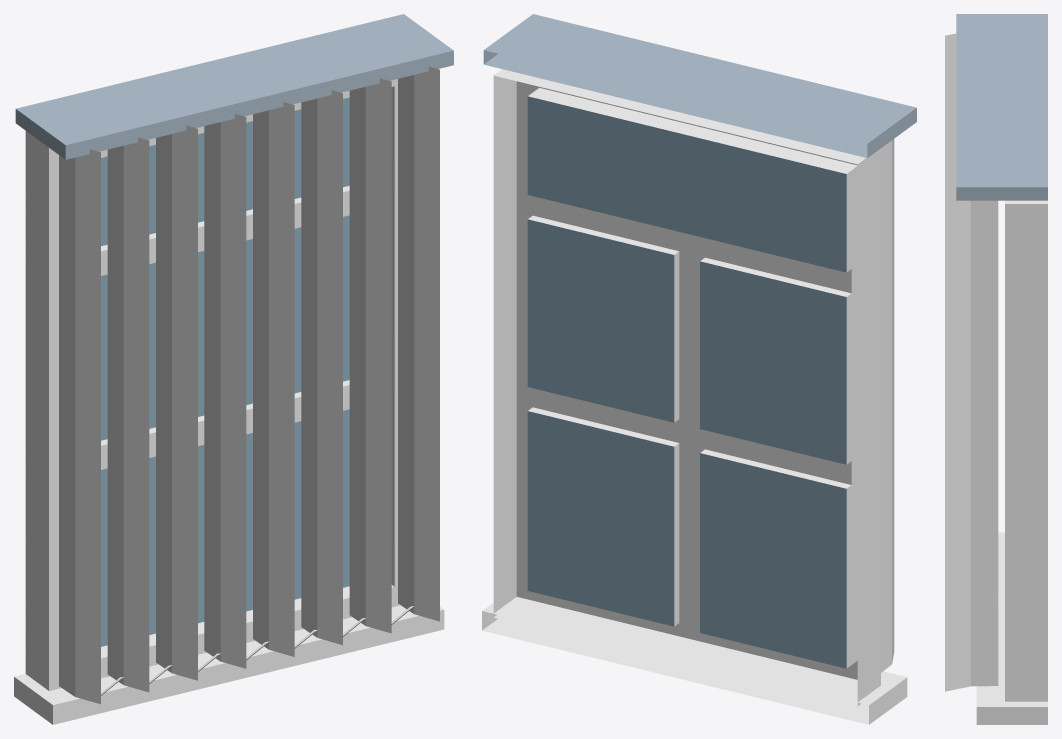
Rendered from window-with-blinds_open 1.fbx.
3 renders of one model, left to right at view 1: azimuth 30°, elevation 25°; view 2: azimuth 150°, elevation 25°; view 3: azimuth 270°, elevation 25°, orthographic. The views are drawn at different scales.
Visible parts, largest first — view 1: window blind open, window; view 2: window, window blind open; view 3: window blind open, window.
Boxes of the visible parts, x1=… form: window blind open: x1=15, y1=14, x2=453, y2=704; window: x1=14, y1=79, x2=444, y2=724; window: x1=482, y1=69, x2=907, y2=724; window blind open: x1=483, y1=14, x2=916, y2=672; window blind open: x1=945, y1=14, x2=1047, y2=691; window: x1=976, y1=200, x2=1047, y2=724.
Size of the model in its own units: 1.49 by 2.14 by 0.3721.
Materials: 2 (1 with a texture image).
